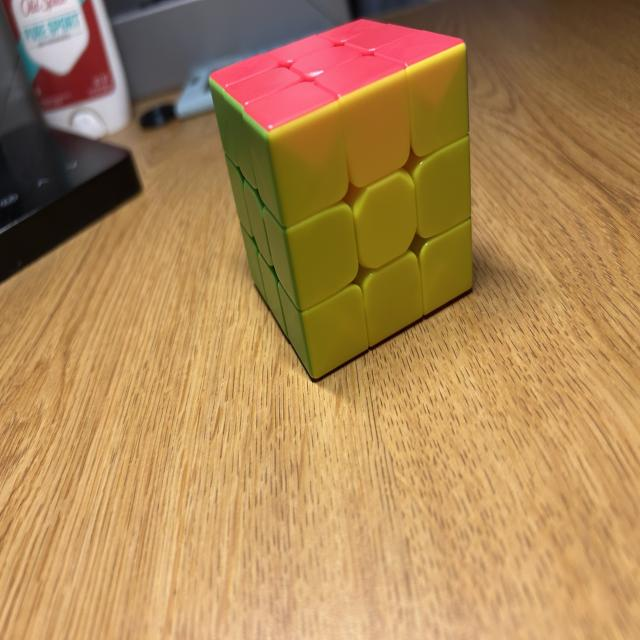Rubiks Cube: (209, 17, 474, 382)
